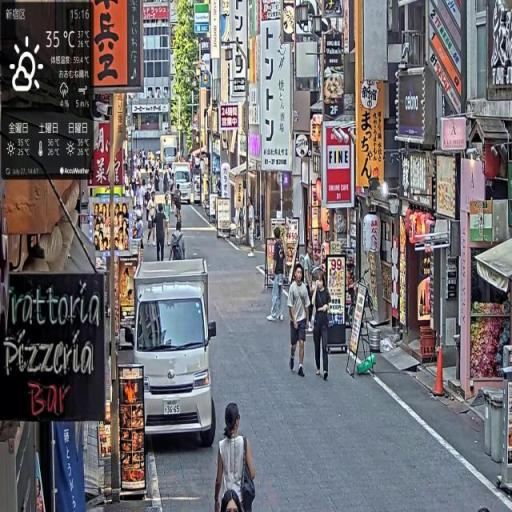person: (215, 401, 257, 512), (289, 265, 311, 380), (311, 269, 333, 382), (267, 229, 288, 324), (155, 203, 168, 264), (169, 223, 187, 262)
